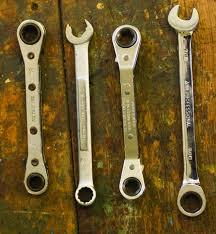wrench: (110, 23, 146, 200), (15, 17, 47, 196)
